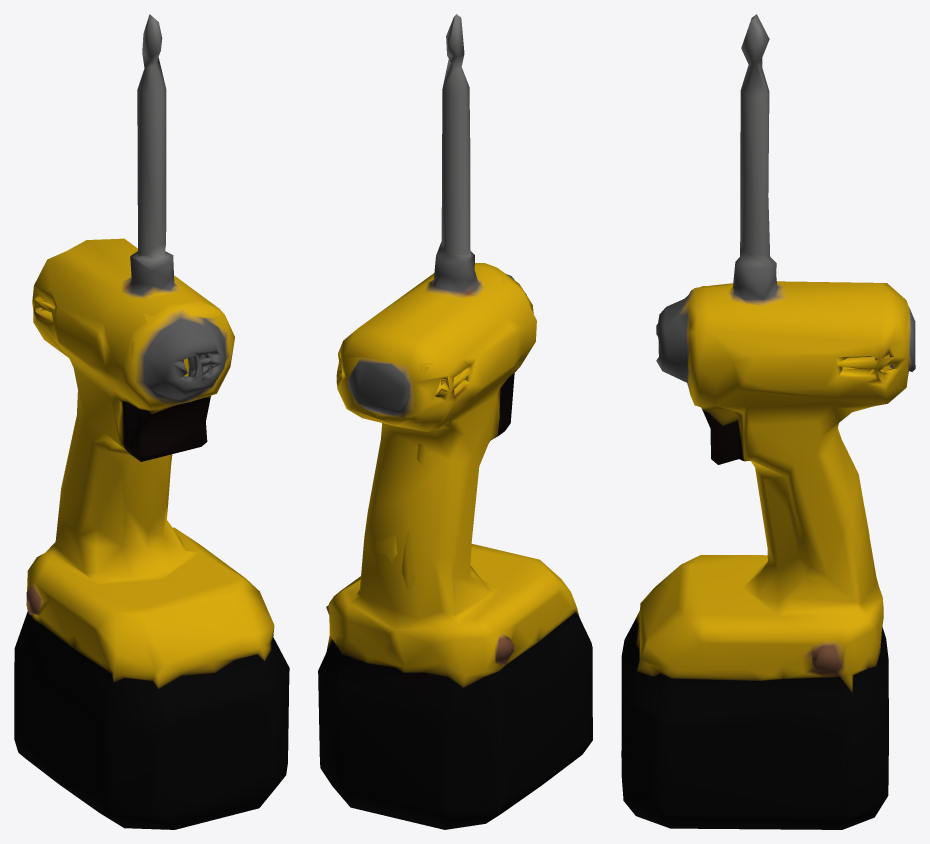
File: gen3d-drill-lod0.glb
3 views of the same model, side by side, from view 1: azimuth 30°, elevation 25°; view 2: azimuth 150°, elevation 25°; view 3: azimuth 270°, elevation 25° (orthographic). The views are drawn at different scales.
Visible parts, largest first — view 1: part_0; view 2: part_0; view 3: part_0.
Boxes of the visible parts, bbox=[...] form: part_0: bbox=[14, 14, 289, 829]; part_0: bbox=[318, 14, 592, 829]; part_0: bbox=[621, 14, 915, 829].
Size of the model in its own units: 0.2511 by 0.9989 by 0.3393.
